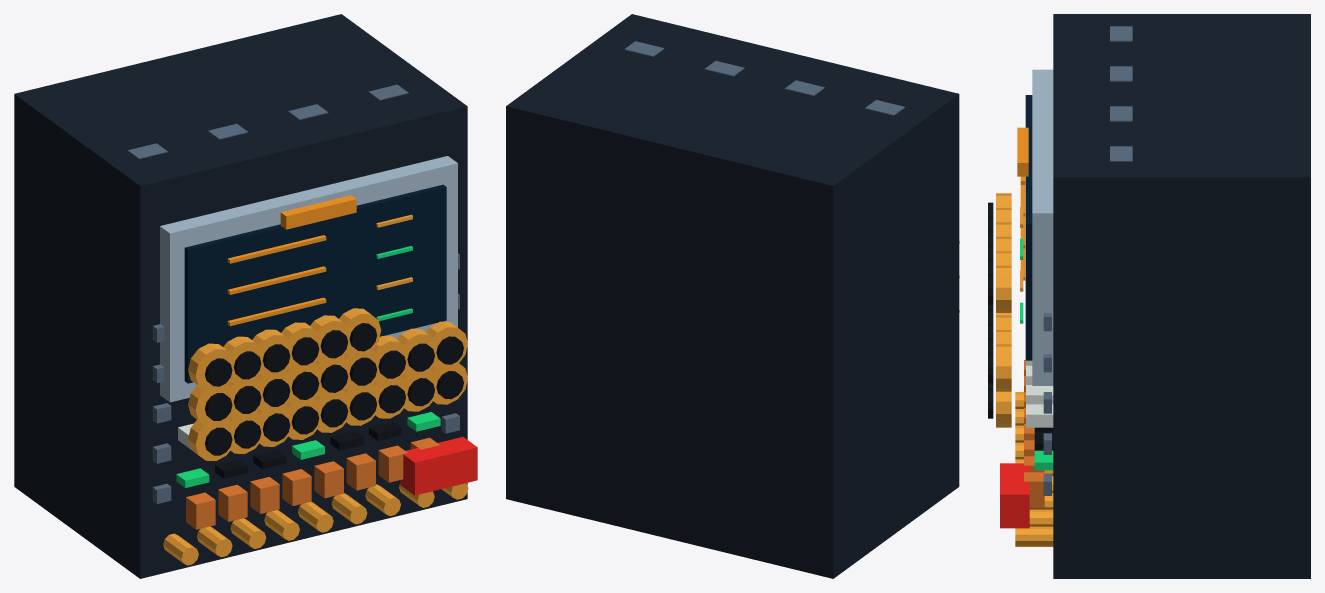
The model's file is 77_L88_HabitatLifeSupportSafetyPLC.fbx.
3 renders of one model, left to right at view 1: azimuth 30°, elevation 25°; view 2: azimuth 150°, elevation 25°; view 3: azimuth 270°, elevation 25°, orthographic. The views are drawn at different scales.
Parts seen in each view (by area): view 1: L87_HabitatLifeSupportSafetyPLC_Part_0000, L87_HabitatLifeSupportSafetyPLC_Part_0002, L87_HabitatLifeSupportSafetyPLC_Part_0001, L87_HabitatLifeSupportSafetyPLC_Part_0009, L87_HabitatLifeSupportSafetyPLC_Part_0004, L87_HabitatLifeSupportSafetyPLC_Part_0008, L87_HabitatLifeSupportSafetyPLC_Part_0011, L87_HabitatLifeSupportSafetyPLC_Part_0007, L87_HabitatLifeSupportSafetyPLC_Part_0003, L87_HabitatLifeSupportSafetyPLC_Part_0005, L87_HabitatLifeSupportSafetyPLC_Part_0010, L87_HabitatLifeSupportSafetyPLC_Part_0048 (+40 smaller); view 2: L87_HabitatLifeSupportSafetyPLC_Part_0000, L87_HabitatLifeSupportSafetyPLC_Part_0008; view 3: L87_HabitatLifeSupportSafetyPLC_Part_0000, L87_HabitatLifeSupportSafetyPLC_Part_0001, L87_HabitatLifeSupportSafetyPLC_Part_0008, L87_HabitatLifeSupportSafetyPLC_Part_0004, L87_HabitatLifeSupportSafetyPLC_Part_0002, L87_HabitatLifeSupportSafetyPLC_Part_0011, L87_HabitatLifeSupportSafetyPLC_Part_0009, L87_HabitatLifeSupportSafetyPLC_Part_0006, L87_HabitatLifeSupportSafetyPLC_Part_0046, L87_HabitatLifeSupportSafetyPLC_Part_0058, L87_HabitatLifeSupportSafetyPLC_Part_0010, L87_HabitatLifeSupportSafetyPLC_Part_0028 (+2 smaller).
Boxes of the visible parts, x1,y1,x2,y2 form: L87_HabitatLifeSupportSafetyPLC_Part_0000: [14, 14, 467, 578]; L87_HabitatLifeSupportSafetyPLC_Part_0002: [184, 184, 446, 383]; L87_HabitatLifeSupportSafetyPLC_Part_0001: [160, 156, 457, 402]; L87_HabitatLifeSupportSafetyPLC_Part_0009: [186, 437, 439, 529]; L87_HabitatLifeSupportSafetyPLC_Part_0004: [163, 214, 468, 565]; L87_HabitatLifeSupportSafetyPLC_Part_0008: [128, 84, 459, 503]; L87_HabitatLifeSupportSafetyPLC_Part_0011: [400, 437, 477, 495]; L87_HabitatLifeSupportSafetyPLC_Part_0007: [215, 421, 401, 478]; L87_HabitatLifeSupportSafetyPLC_Part_0003: [227, 235, 326, 326]; L87_HabitatLifeSupportSafetyPLC_Part_0005: [176, 246, 440, 487]; L87_HabitatLifeSupportSafetyPLC_Part_0010: [280, 195, 356, 229]; L87_HabitatLifeSupportSafetyPLC_Part_0048: [188, 343, 234, 391]; L87_HabitatLifeSupportSafetyPLC_Part_0000: [506, 14, 959, 578]; L87_HabitatLifeSupportSafetyPLC_Part_0008: [624, 41, 904, 115]; L87_HabitatLifeSupportSafetyPLC_Part_0000: [1053, 14, 1310, 578]; L87_HabitatLifeSupportSafetyPLC_Part_0001: [1032, 69, 1053, 385]; L87_HabitatLifeSupportSafetyPLC_Part_0008: [1043, 26, 1132, 495]; L87_HabitatLifeSupportSafetyPLC_Part_0004: [1015, 207, 1053, 546]; L87_HabitatLifeSupportSafetyPLC_Part_0002: [1025, 95, 1032, 360]; L87_HabitatLifeSupportSafetyPLC_Part_0011: [1000, 463, 1029, 528]; L87_HabitatLifeSupportSafetyPLC_Part_0009: [1024, 360, 1044, 507]; L87_HabitatLifeSupportSafetyPLC_Part_0006: [1026, 360, 1053, 427]; L87_HabitatLifeSupportSafetyPLC_Part_0046: [996, 344, 1011, 391]; L87_HabitatLifeSupportSafetyPLC_Part_0058: [996, 265, 1011, 312]; L87_HabitatLifeSupportSafetyPLC_Part_0010: [1017, 127, 1028, 176]; L87_HabitatLifeSupportSafetyPLC_Part_0028: [996, 391, 1011, 427].
Bounding box in the file's own units: 104 × 120 × 86.88.
